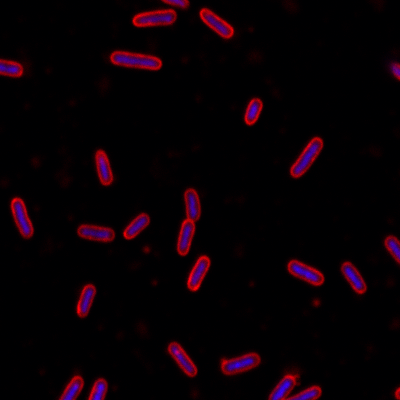Rifampicin: (174, 187, 202, 257), (289, 136, 323, 178), (110, 49, 163, 72), (167, 340, 199, 378), (199, 8, 234, 40), (10, 198, 34, 240), (288, 259, 324, 287), (186, 256, 213, 292), (220, 352, 261, 375), (131, 8, 177, 28), (341, 261, 366, 295), (266, 374, 298, 400), (122, 213, 151, 240), (94, 148, 114, 187), (76, 223, 116, 242), (76, 284, 97, 319), (59, 376, 84, 400), (244, 97, 263, 126), (88, 376, 110, 400), (384, 234, 400, 265), (1, 58, 24, 78)
Vesicle: (141, 246, 151, 255), (312, 299, 320, 308)
